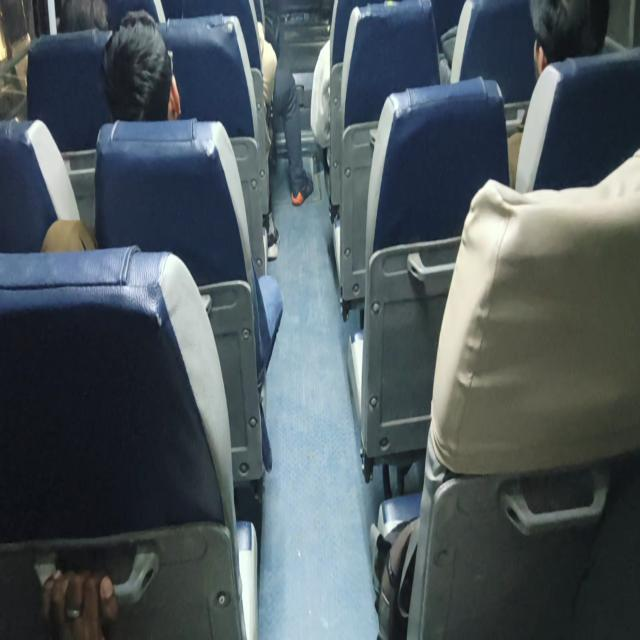person: (41, 9, 283, 472), (41, 9, 181, 252), (175, 0, 314, 206), (506, 0, 610, 188), (255, 19, 314, 206), (101, 9, 181, 122), (528, 0, 610, 81), (40, 567, 119, 638)
